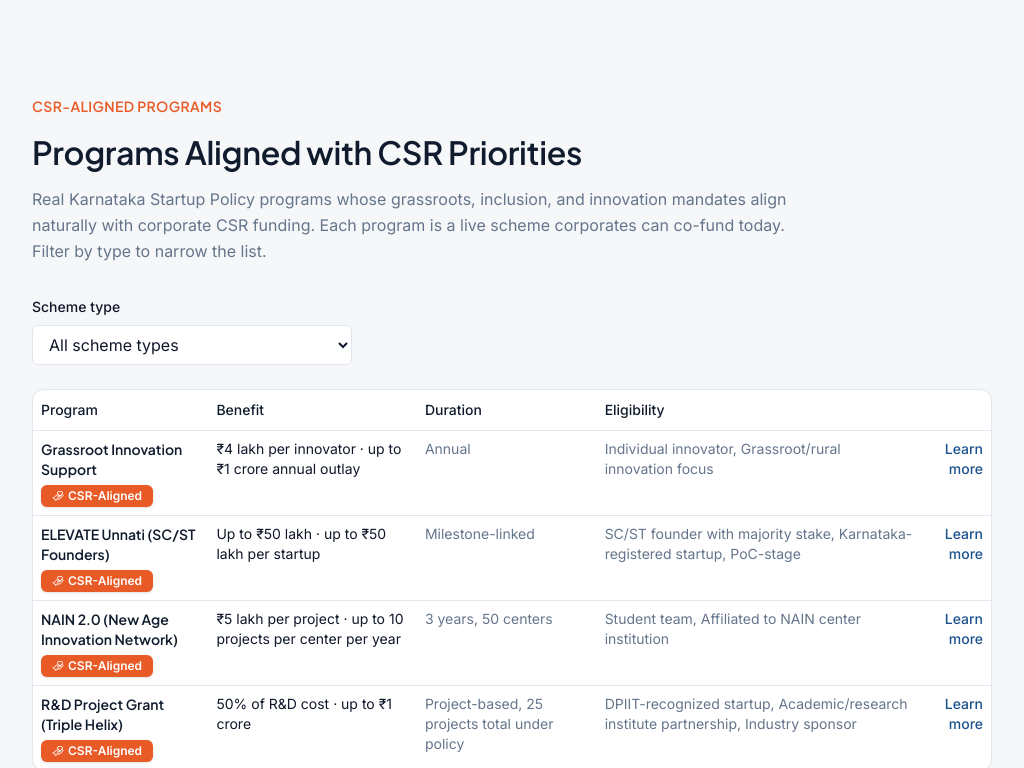
Test: CsrAlignedPrograms (CSR-aligned programs island) › narrows the visible rows when the 'Scheme type' select changes
The image size is (1024, 768).
Note: Grants: only the grant-typed CSR-aligned schemes remain.
Select "Grants" in the dropdown labelled "Scheme type" at {"x": 192, "y": 345}, box [32,325,352,365]
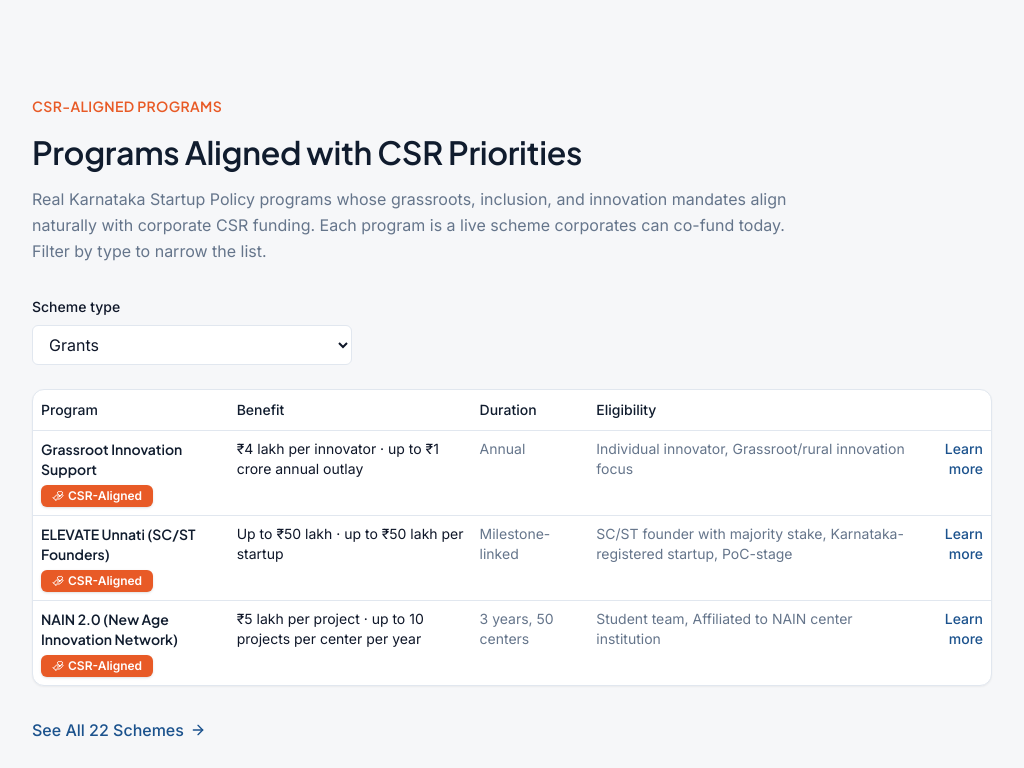
Now the text "CSR-Aligned" is shown 3 times, box [41,485,153,507]; [41,570,153,592]; [41,655,153,677]
Note: Fiscal incentives: only the fiscal-typed schemes remain — a different count.
Select "Fiscal incentives" in the dropdown labelled "Scheme type" at {"x": 192, "y": 345}, box [32,325,352,365]
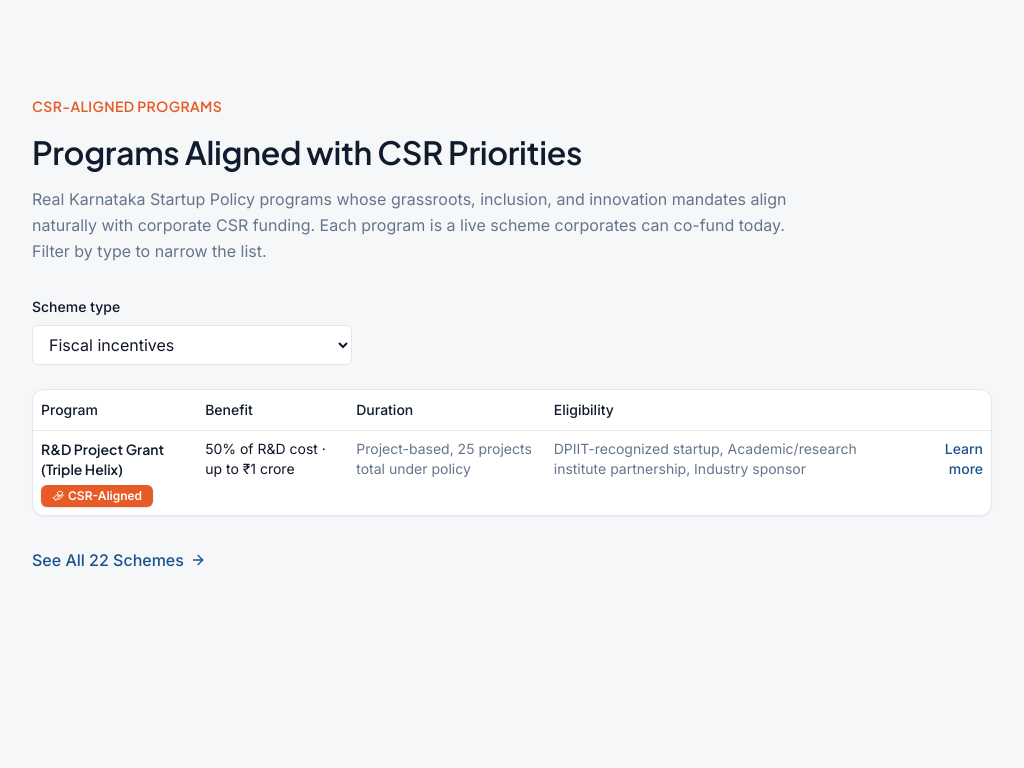
Now the text "CSR-Aligned" is shown once, box [41,485,153,507]
Now the text "R&D Project Grant (Triple Helix)" is shown, box [41,440,164,478]
Now the text "Grassroot Innovation Support" is gone
